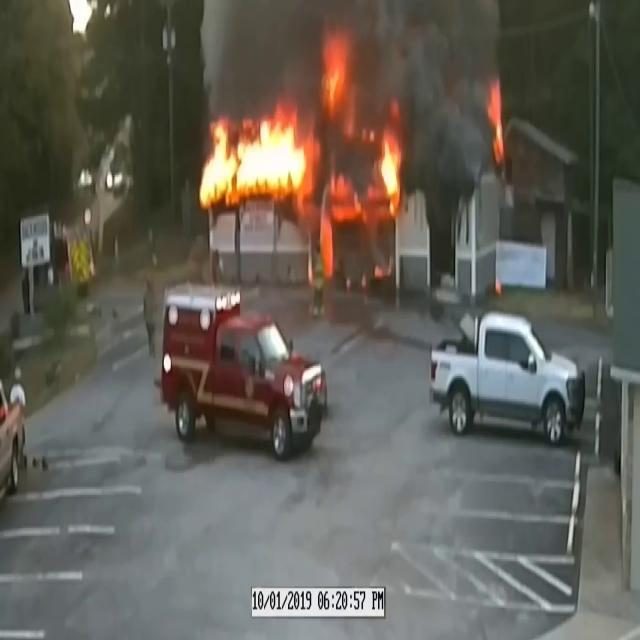Fire: (196, 99, 314, 209), (318, 168, 357, 280), (374, 124, 408, 218)
Smoke: (194, 0, 514, 152)
